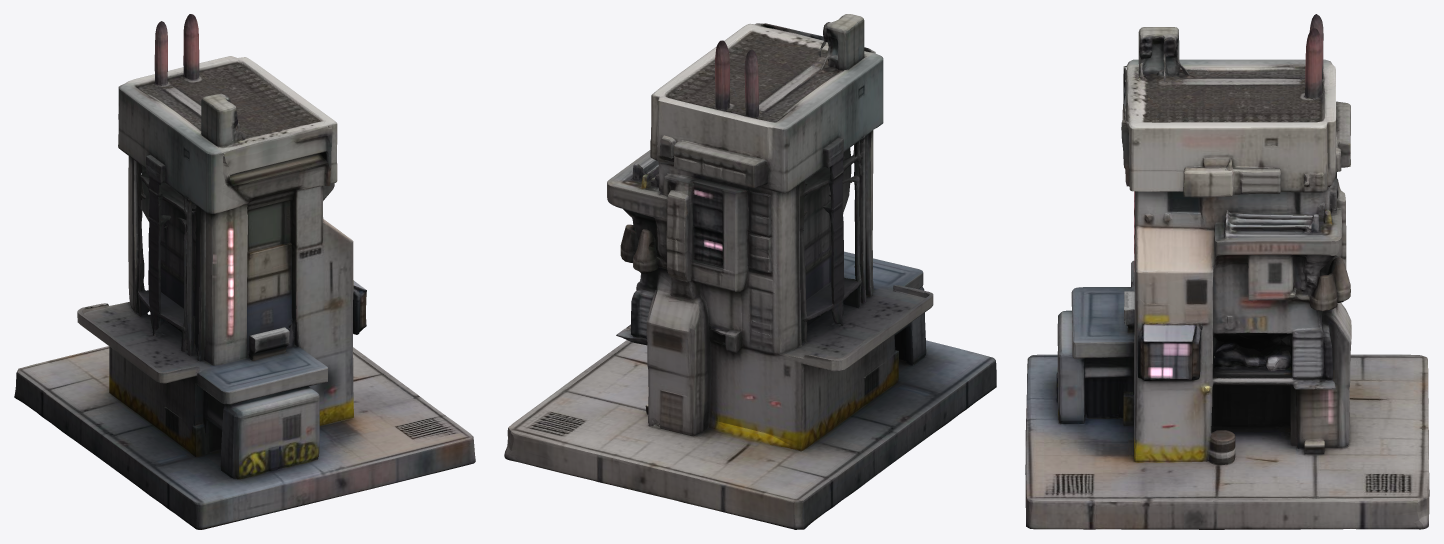
The model's file is cyberpunk_building3_wt.gltf.
The picture shows the model from 3 angles, left to right: view 1: azimuth 30°, elevation 25°; view 2: azimuth 150°, elevation 25°; view 3: azimuth 270°, elevation 25°; orthographic projection. The views are drawn at different scales.
Parts seen in each view (by area): view 1: geometry_0.009; view 2: geometry_0.009; view 3: geometry_0.009.
Boxes of the visible parts, <box> form: geometry_0.009: <box>14,14,475,529</box>; geometry_0.009: <box>504,14,996,529</box>; geometry_0.009: <box>1025,14,1429,529</box>.
Size of the model in its own units: 60.64 by 80.63 by 70.12.
Materials: 1 (1 with a texture image).
